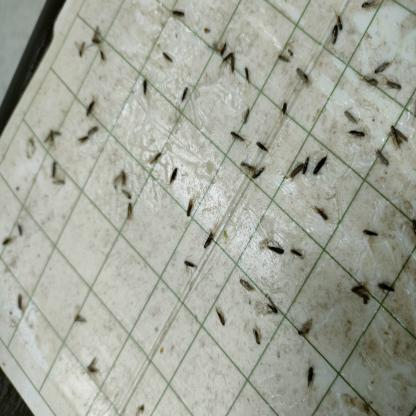prays_oleae: (383, 124, 410, 153), (294, 318, 319, 348), (348, 271, 371, 303), (312, 201, 332, 234), (377, 272, 399, 301), (310, 153, 332, 181), (374, 143, 390, 174), (227, 127, 250, 148), (224, 48, 240, 78), (247, 324, 266, 348), (201, 228, 219, 253), (82, 357, 104, 377), (180, 257, 200, 278), (260, 297, 280, 318), (170, 6, 192, 25), (338, 110, 364, 126), (73, 42, 95, 60), (382, 78, 405, 95), (150, 146, 168, 167), (288, 157, 302, 183), (265, 238, 284, 257), (207, 311, 231, 326), (373, 59, 393, 76), (180, 87, 194, 111), (170, 166, 183, 191), (236, 275, 255, 292), (141, 71, 157, 91), (252, 164, 268, 183), (44, 127, 61, 144), (209, 41, 231, 54), (362, 222, 382, 236), (360, 76, 378, 91), (86, 94, 98, 116), (241, 103, 254, 123), (345, 129, 366, 141), (124, 202, 136, 223), (256, 136, 270, 154), (354, 2, 379, 12), (89, 30, 109, 42), (330, 24, 340, 48), (241, 159, 256, 174), (114, 170, 128, 186), (294, 68, 310, 82), (336, 12, 346, 34), (184, 200, 196, 218), (242, 66, 254, 84), (76, 132, 90, 147), (302, 150, 310, 176), (74, 313, 86, 329), (289, 245, 305, 256), (50, 159, 60, 176), (162, 52, 174, 66), (15, 225, 28, 236), (87, 124, 99, 134), (120, 190, 132, 199)
